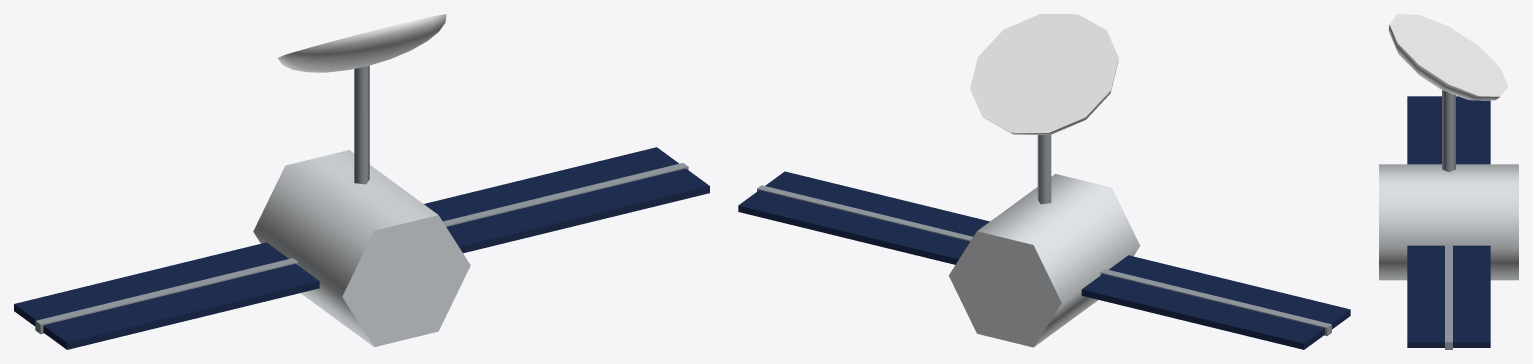
Rendered from space_ship_probe_mk2.glb.
The picture shows the model from 3 angles, left to right: view 1: azimuth 30°, elevation 25°; view 2: azimuth 150°, elevation 25°; view 3: azimuth 270°, elevation 25°; orthographic projection. The views are drawn at different scales.
Parts seen in each view (by area): view 1: body, solar_0, solar_1, antenna_0; view 2: body, antenna_0, solar_0, solar_1; view 3: body, solar_1, antenna_0, solar_0.
Boxes of the visible parts, bbox=[...] form: body: bbox=[253, 150, 470, 346]; solar_0: bbox=[14, 242, 319, 349]; solar_1: bbox=[424, 147, 709, 253]; antenna_0: bbox=[278, 14, 446, 184]; body: bbox=[948, 174, 1139, 347]; antenna_0: bbox=[970, 14, 1118, 204]; solar_0: bbox=[1081, 255, 1350, 349]; solar_1: bbox=[738, 171, 989, 264]; body: bbox=[1379, 164, 1518, 280]; solar_1: bbox=[1407, 244, 1490, 349]; antenna_0: bbox=[1388, 14, 1508, 171]; solar_0: bbox=[1407, 96, 1490, 164].
Size of what is drawn, in the model's own units: 5.64 by 2.58 by 1.34.
